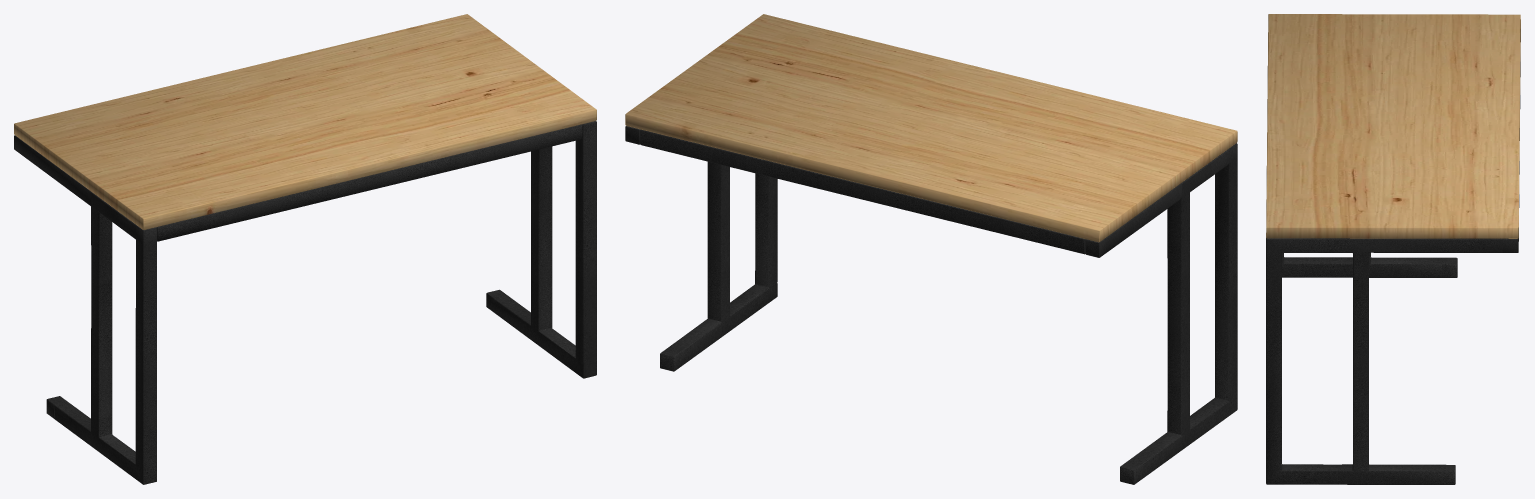
File: woodtopdesk.glb
The picture shows the model from 3 angles, left to right: view 1: azimuth 30°, elevation 25°; view 2: azimuth 150°, elevation 25°; view 3: azimuth 270°, elevation 25°; orthographic projection. The views are drawn at different scales.
Visible parts, largest first — view 1: Plane.001; view 2: Plane.001; view 3: Plane.001.
Part boxes in pixels (bbox=[...]): Plane.001: bbox=[14, 14, 596, 484]; Plane.001: bbox=[625, 14, 1237, 484]; Plane.001: bbox=[1266, 14, 1520, 484].
Size of the model in its own units: 1.78 by 0.9965 by 0.8931.
2 materials, 2 textured.
